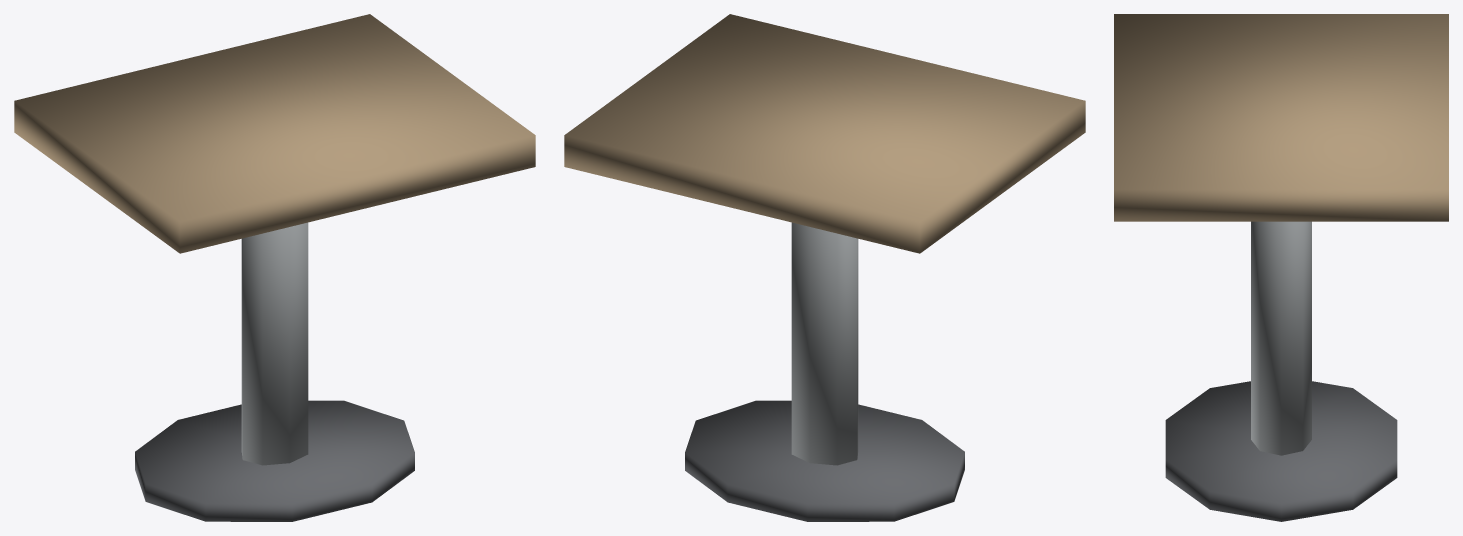
Rendered from cafe_pedestal_table__wide.glb.
3 renders of one model, left to right at view 1: azimuth 30°, elevation 25°; view 2: azimuth 150°, elevation 25°; view 3: azimuth 270°, elevation 25°, orthographic.
Parts seen in each view (by area): view 1: world; view 2: world; view 3: world.
Boxes of the visible parts, bbox=[...] form: world: bbox=[14, 14, 535, 521]; world: bbox=[564, 14, 1085, 521]; world: bbox=[1114, 14, 1448, 521].
Bounding box in the file's own units: 0.8184 × 0.775 × 0.66.
